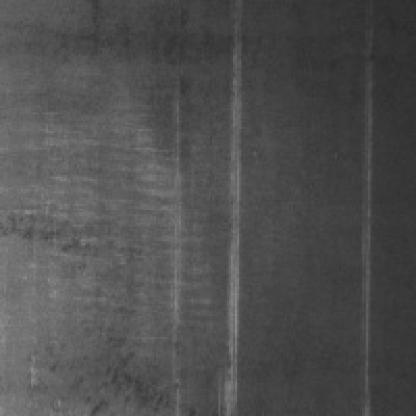scratches: (212, 29, 244, 408), (356, 66, 372, 410)
